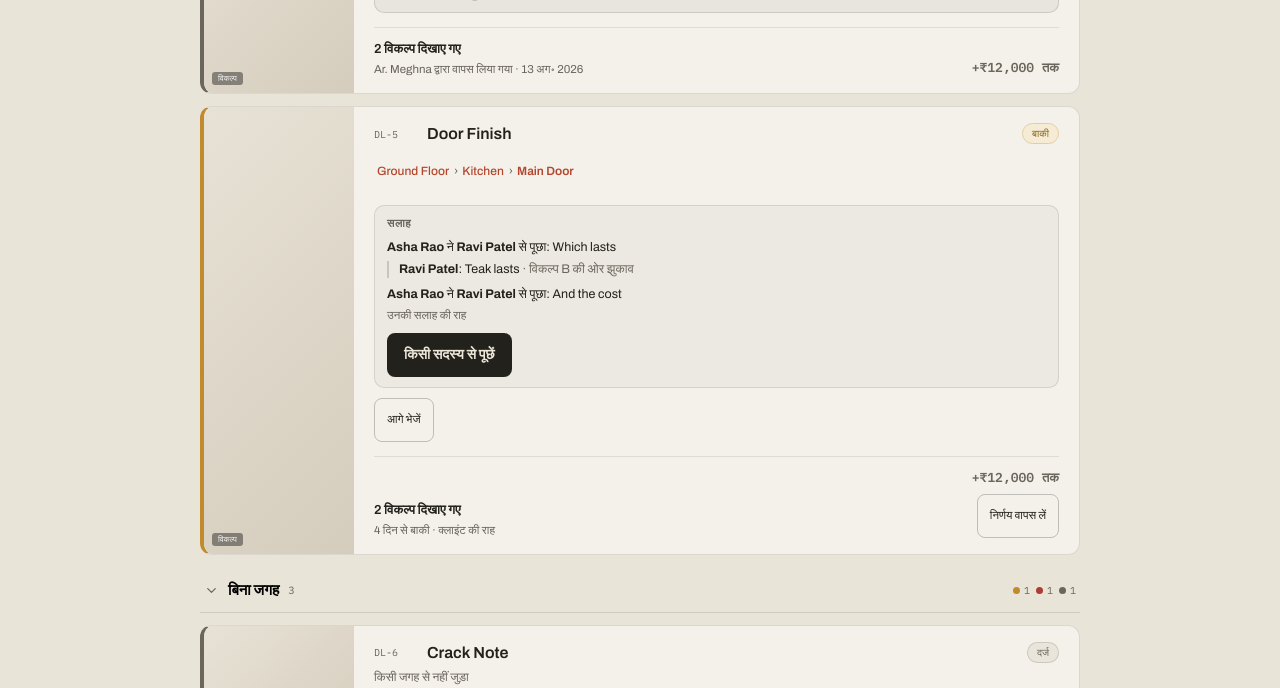
the Decision Log in hi (#482 QA item 3) › the consultation thread's ask form shows no English
(page scrolled)
What coordinates should you click on to do the following:
click the button with test id "consultation-ask-DL-5"
I would click on:
 (449, 355)
Its box is x1=387 y1=333 x2=512 y2=377.
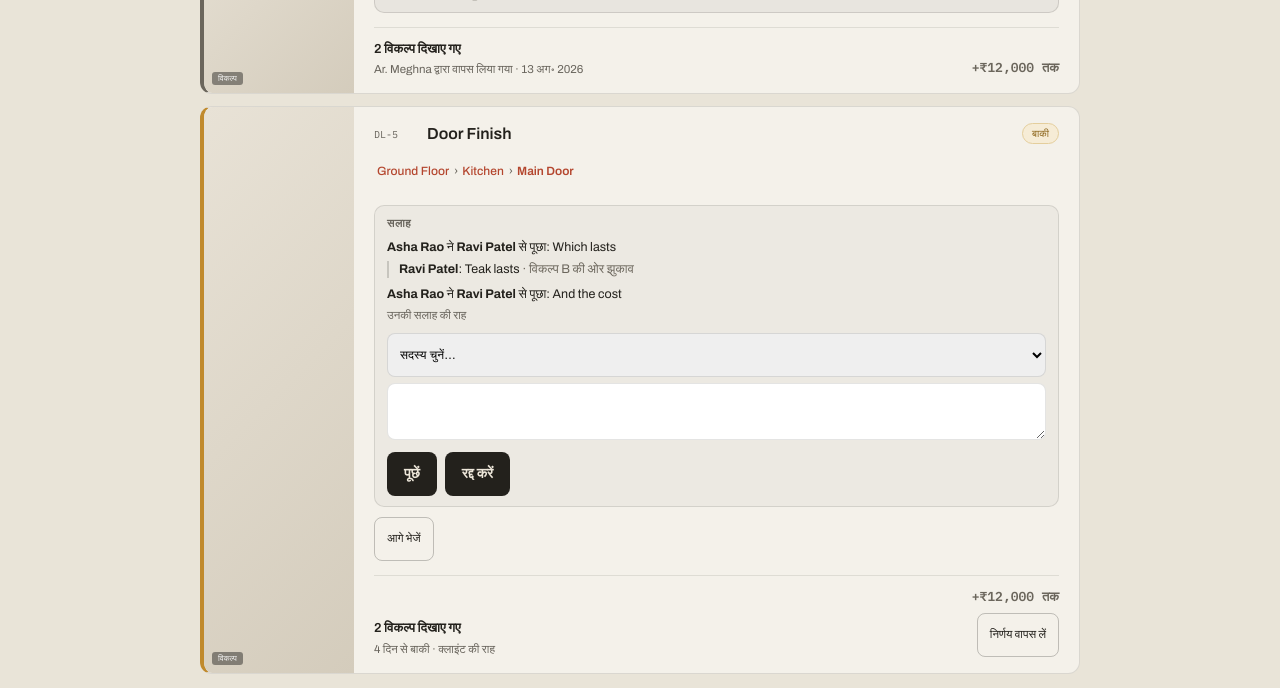
Check: the element with test id "consultation-ask-form-DL-5" is shown, box x1=387 y1=333 x2=1046 y2=496
